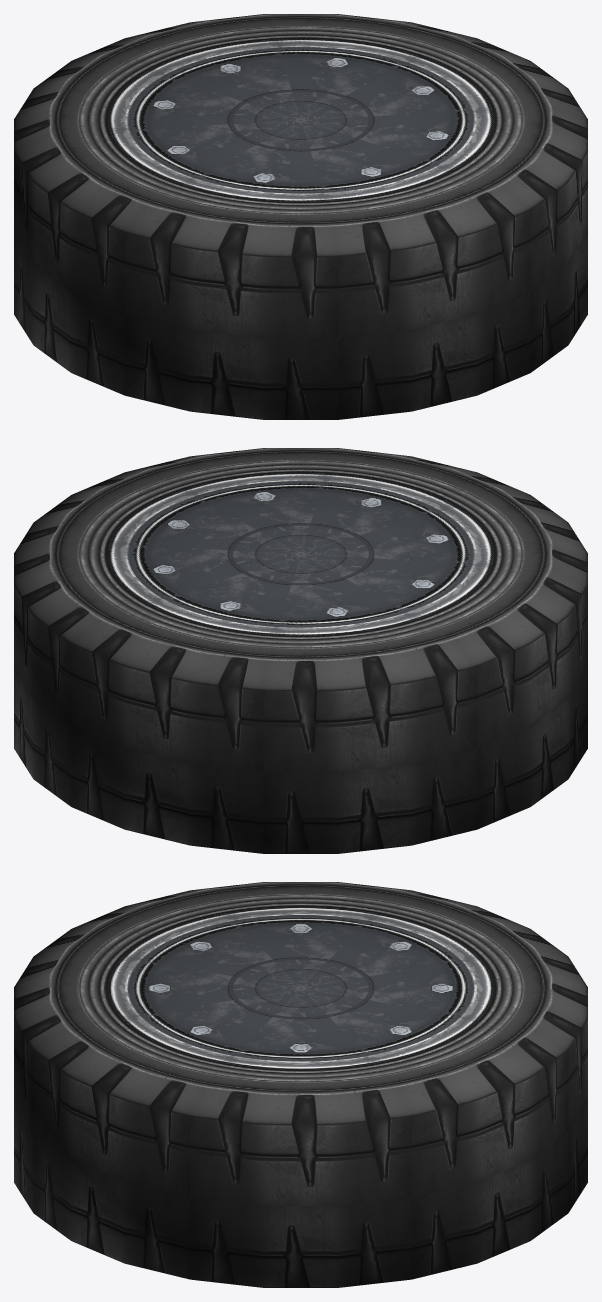
Rendered from car_wheel.dae.
3 views of the same model, one above another, from view 1: azimuth 30°, elevation 25°; view 2: azimuth 150°, elevation 25°; view 3: azimuth 270°, elevation 25° (orthographic).
Parts seen in each view (by area): view 1: Conveyor_Wheel; view 2: Conveyor_Wheel; view 3: Conveyor_Wheel.
Boxes of the visible parts, left/top/right/bottom form: Conveyor_Wheel: left=14, top=14, right=587, bottom=419; Conveyor_Wheel: left=14, top=448, right=587, bottom=853; Conveyor_Wheel: left=14, top=882, right=587, bottom=1287.
Size of the model in its own units: 434 by 434 by 161.
1 material, 1 textured.
